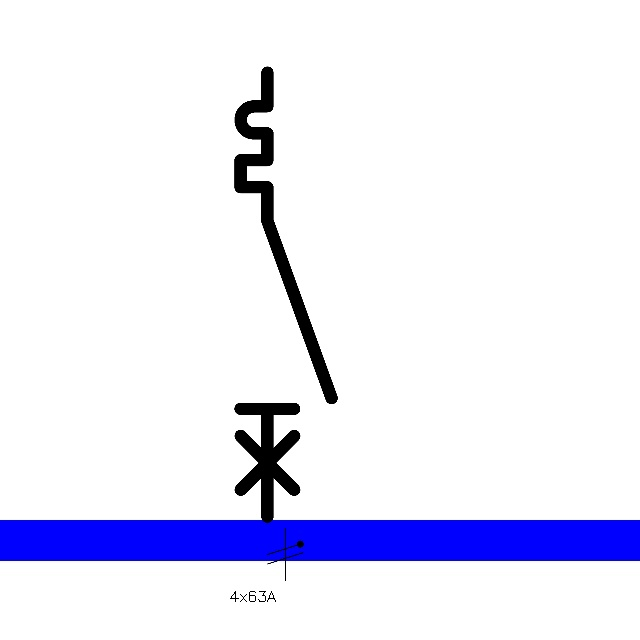interruptor_termomagnetico: (229, 61, 343, 528)
